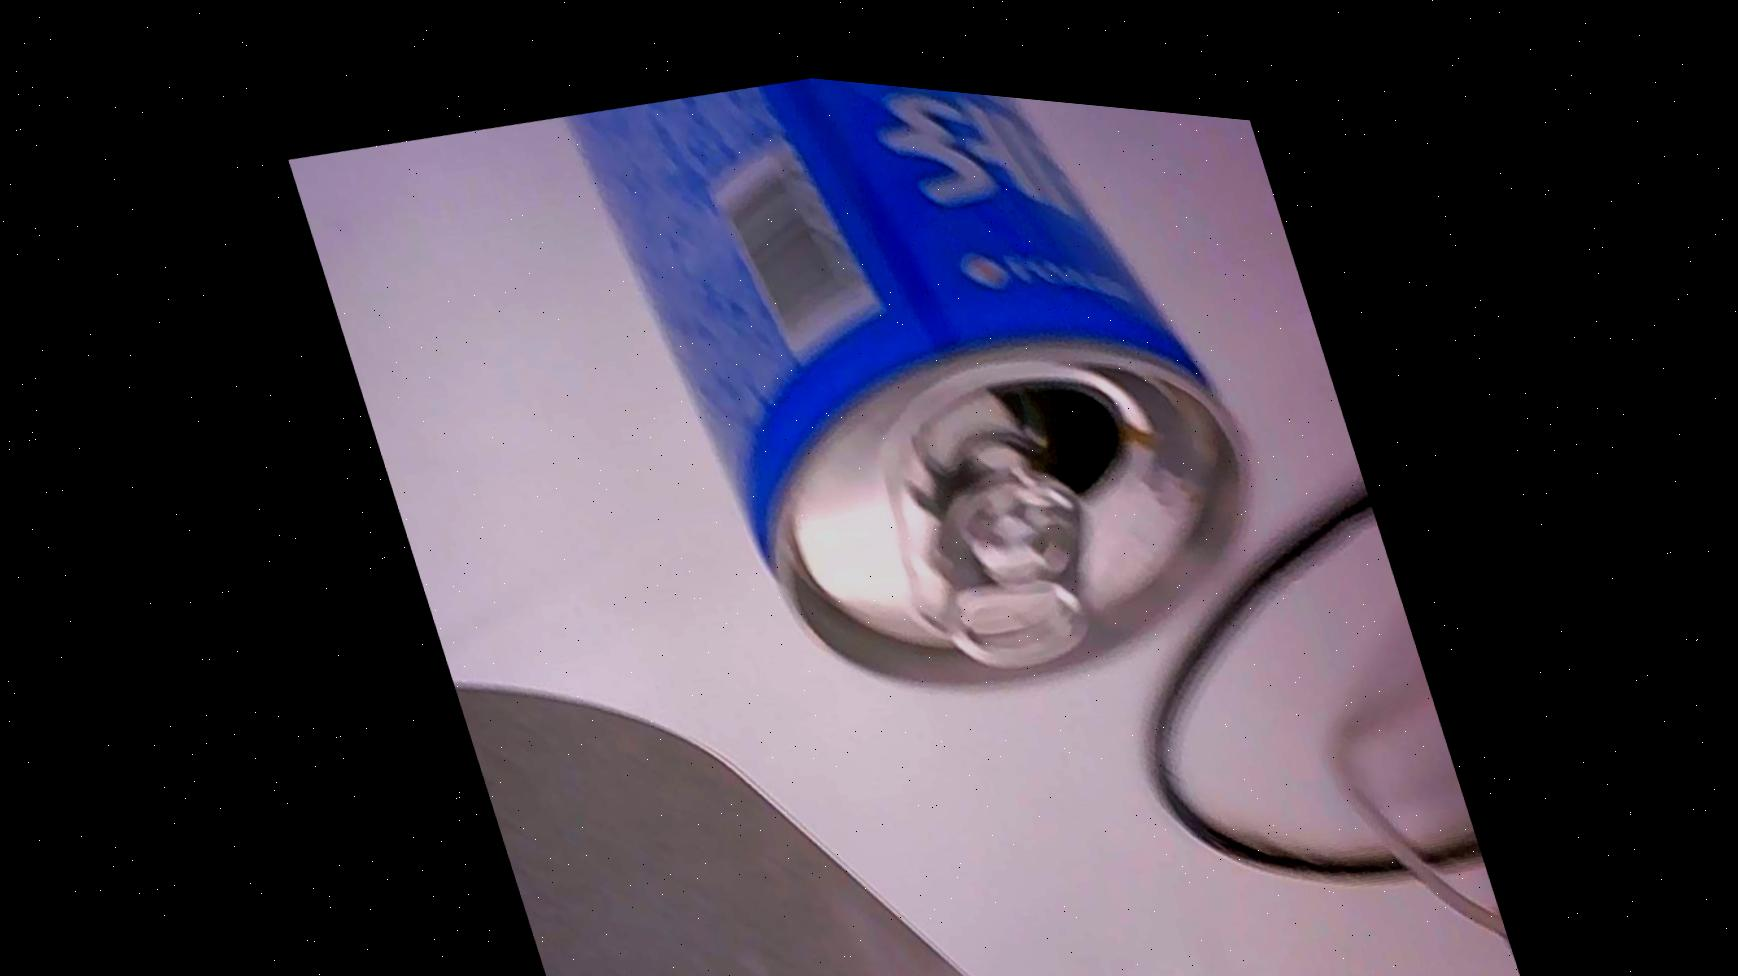letsbe: (535, 41, 1315, 768)
